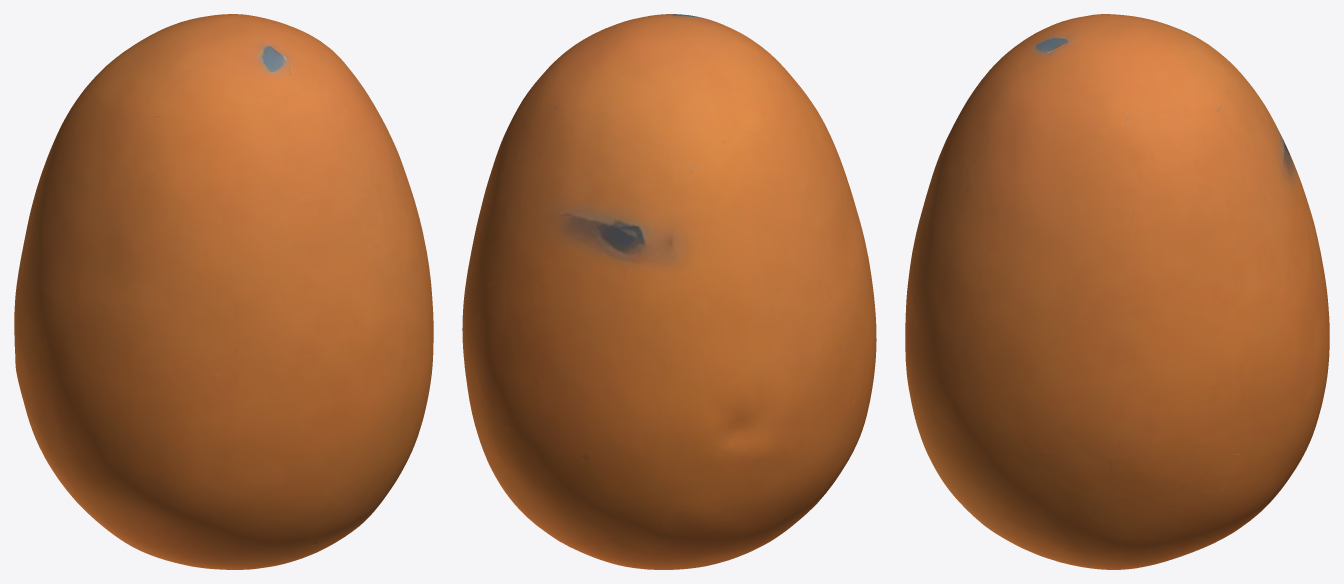
The model's file is tea-egg.glb.
3 renders of one model, left to right at view 1: azimuth 30°, elevation 25°; view 2: azimuth 150°, elevation 25°; view 3: azimuth 270°, elevation 25°, orthographic.
Visible parts, largest first — view 1: Mesh; view 2: Mesh; view 3: Mesh.
Boxes of the visible parts, x1,y1,x2,y2 form: Mesh: (14,14,433,569); Mesh: (462,14,876,569); Mesh: (905,14,1329,569).
Bounding box in the file's own units: 0.719 × 1 × 0.7376.
Materials: 1 (1 with a texture image).
